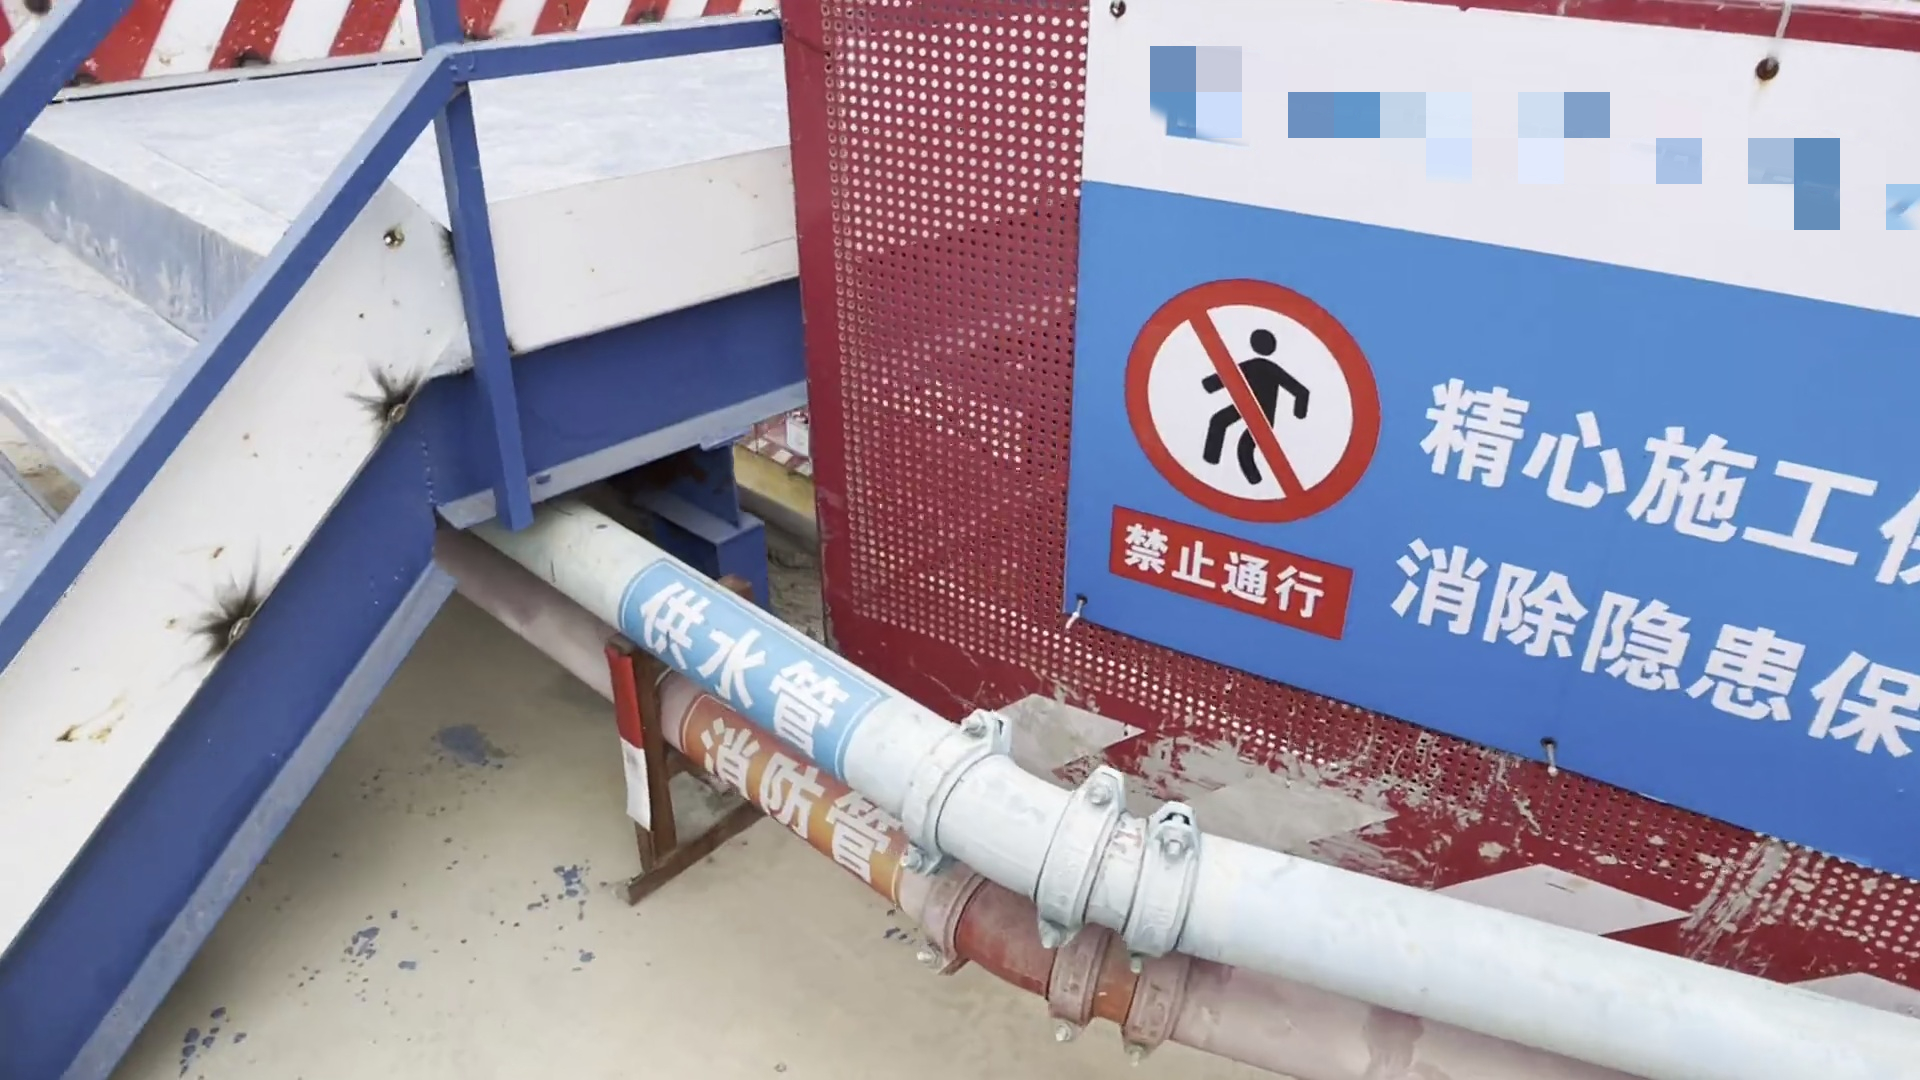slogan: (1054, 7, 1920, 931)
